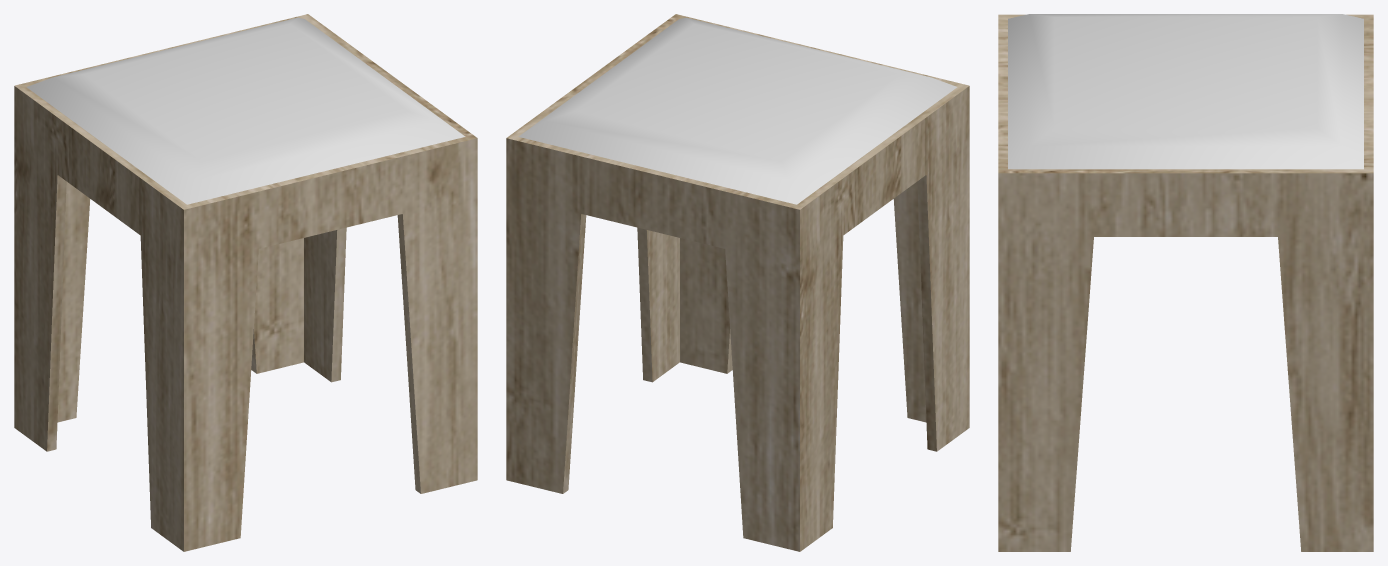
The model's file is Chair_Wood.fbx.
3 renders of one model, left to right at view 1: azimuth 30°, elevation 25°; view 2: azimuth 150°, elevation 25°; view 3: azimuth 270°, elevation 25°, orthographic. The views are drawn at different scales.
Parts seen in each view (by area): view 1: CH05M31; view 2: CH05M31; view 3: CH05M31.
Boxes of the visible parts, x1=… form: CH05M31: x1=14, y1=14, x2=477, y2=551; CH05M31: x1=506, y1=14, x2=969, y2=551; CH05M31: x1=998, y1=14, x2=1373, y2=551.
Size of the model in its own units: 40.43 by 47.5 by 40.43.
